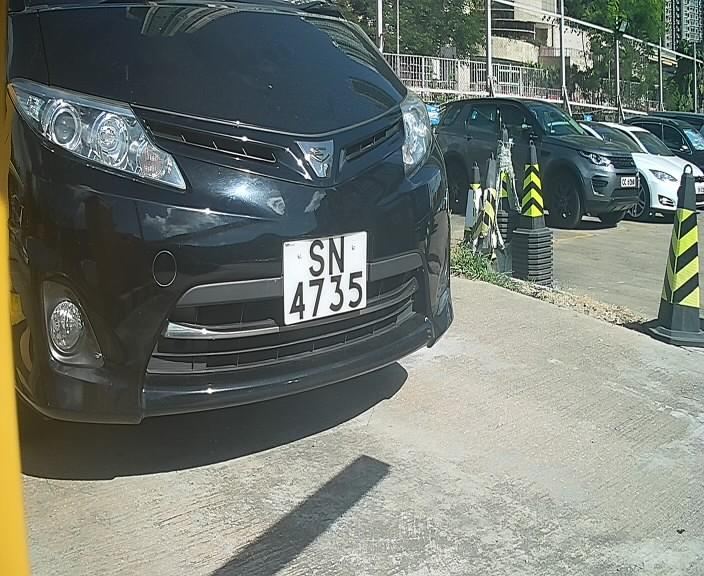privatecar: (13, 13, 447, 438)
